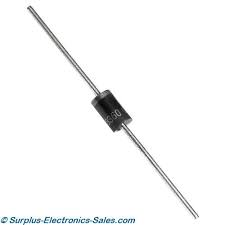diode: (79, 73, 157, 166)
